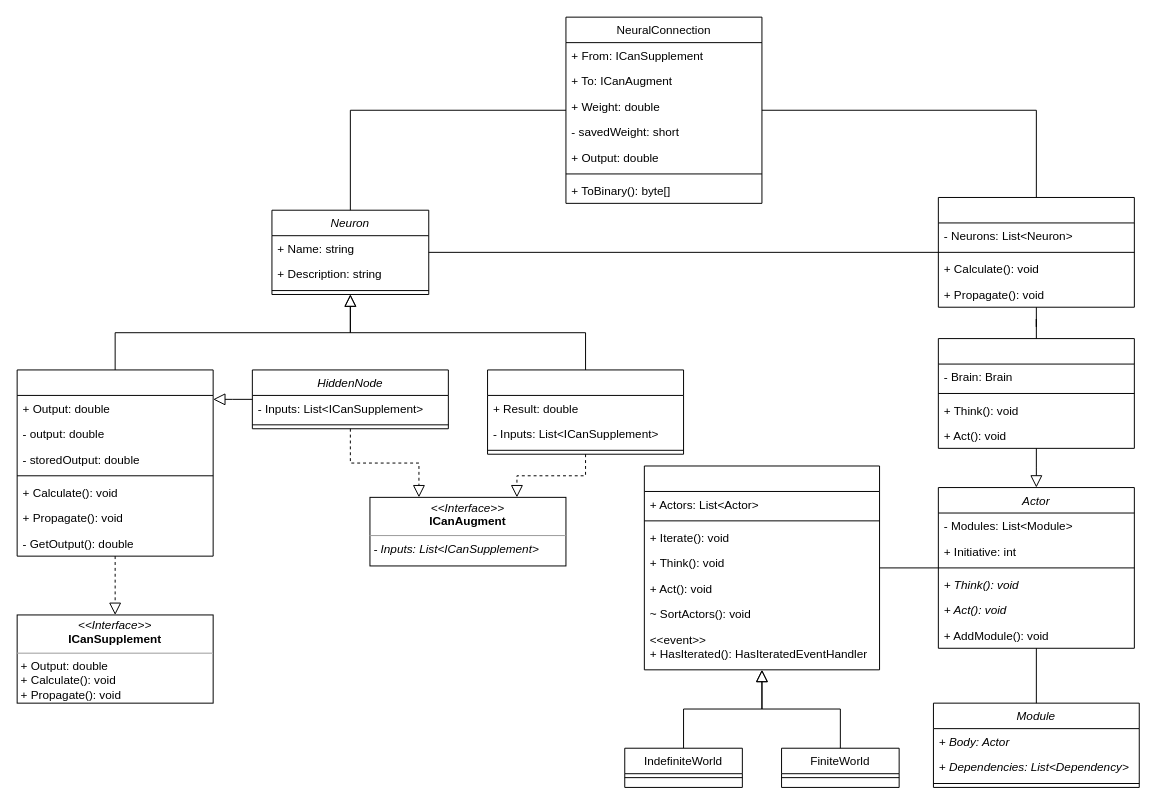
Some shapes in this 1156 by 805 pixel diagram are drawn without their labels. Each missing label, with the box of its shape:
Brain: (937, 196, 1134, 307)
InputNode: (16, 369, 213, 556)
Learner: (937, 338, 1134, 448)
OutputNode: (487, 369, 684, 454)
World: (643, 465, 880, 670)
